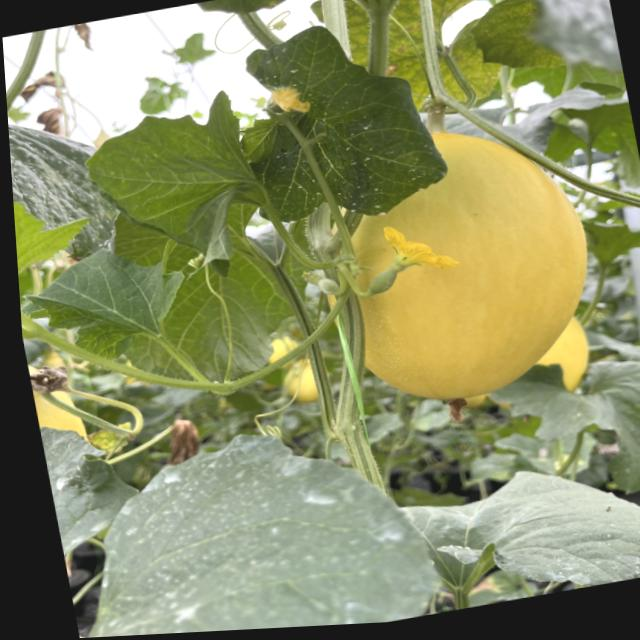downy mildew: (36, 363, 436, 639), (222, 6, 456, 230)
